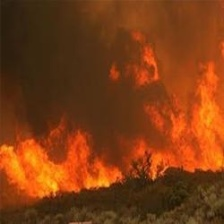fire: (1, 38, 223, 204)
